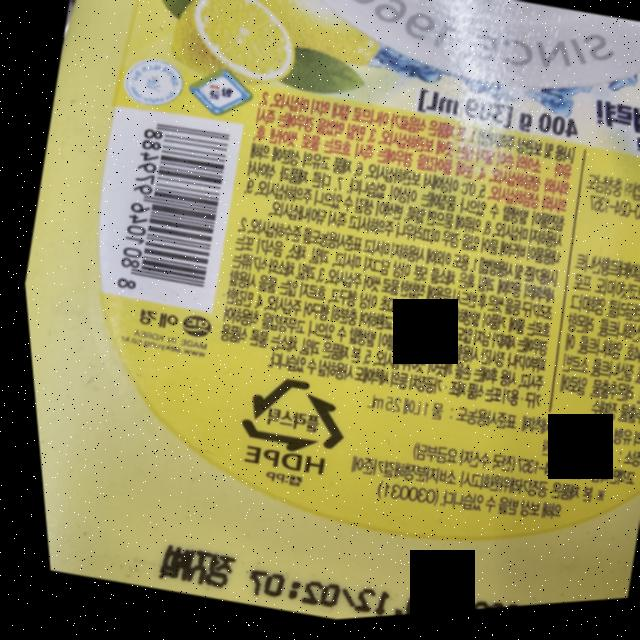Plastic: (217, 363, 352, 471)
